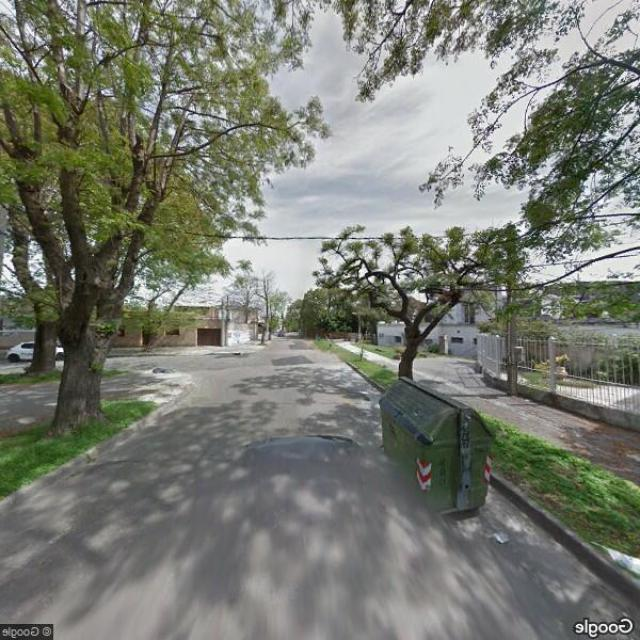garbage container: (367, 373, 500, 526)
